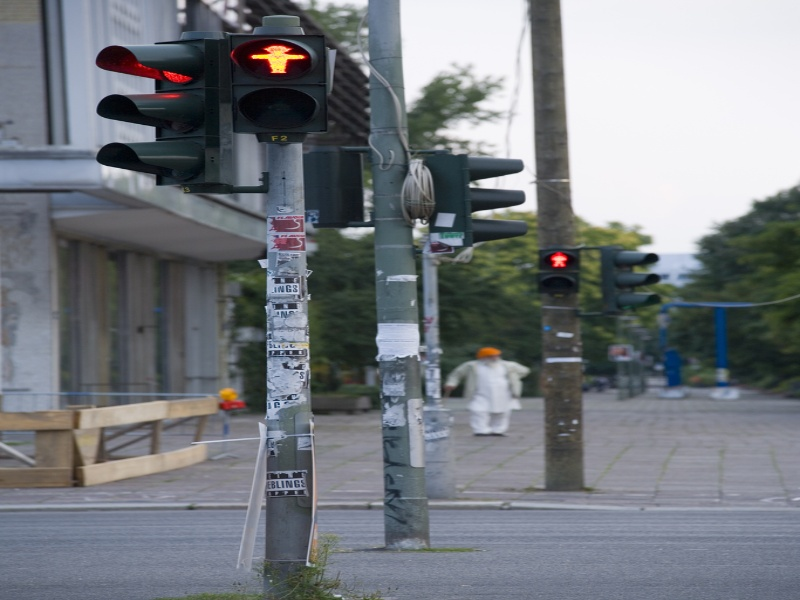pedestrian_crossing_red: (245, 44, 307, 78)
